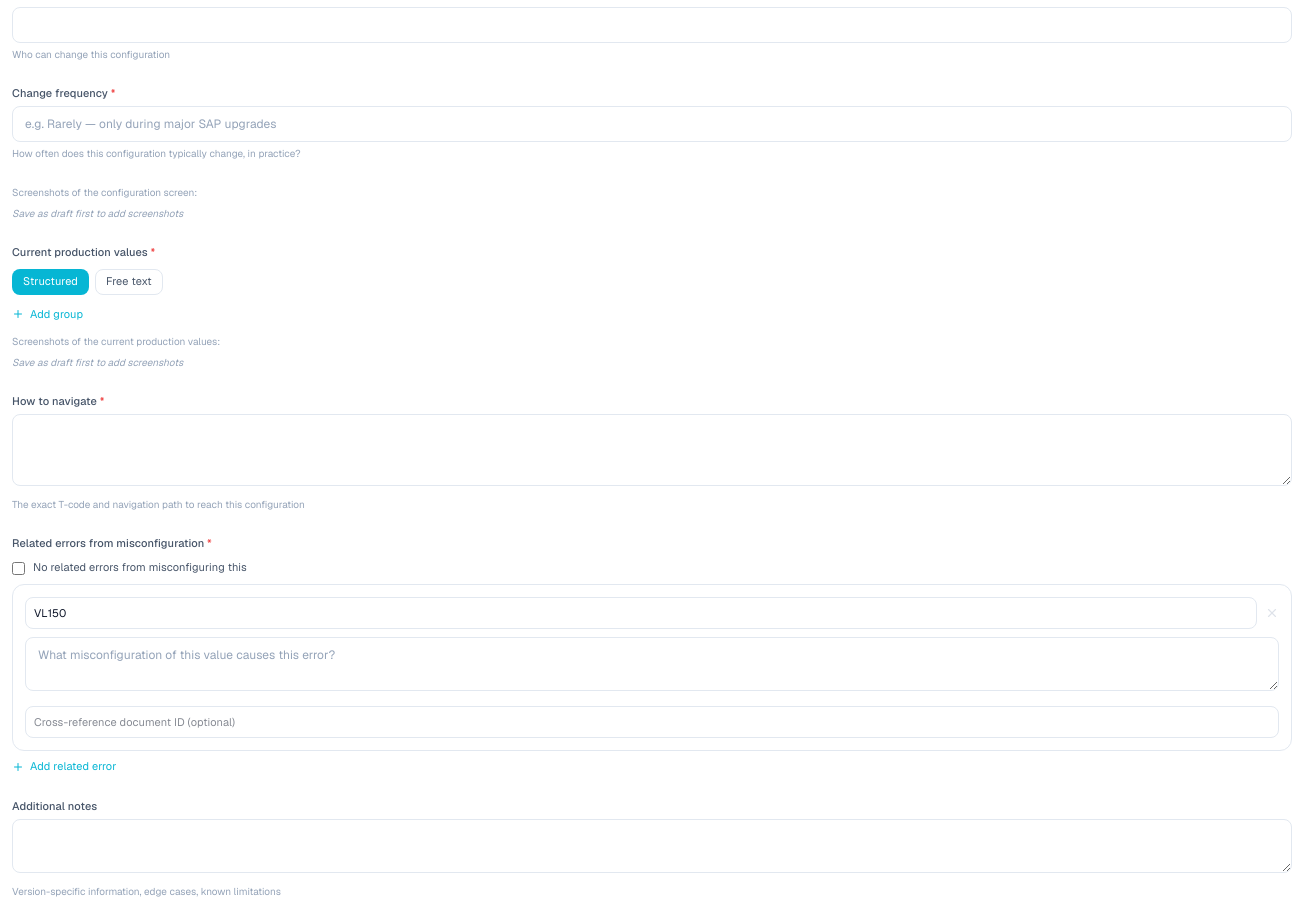
it: ConfigFormFields › checks a cross-referenced document ID via validateReference
(page scrolled)
Type "SD-CFG-001" into the field with placeholder "Cross-reference document ID (optional)". click: (652, 722)
box: [25,706,1279,738]
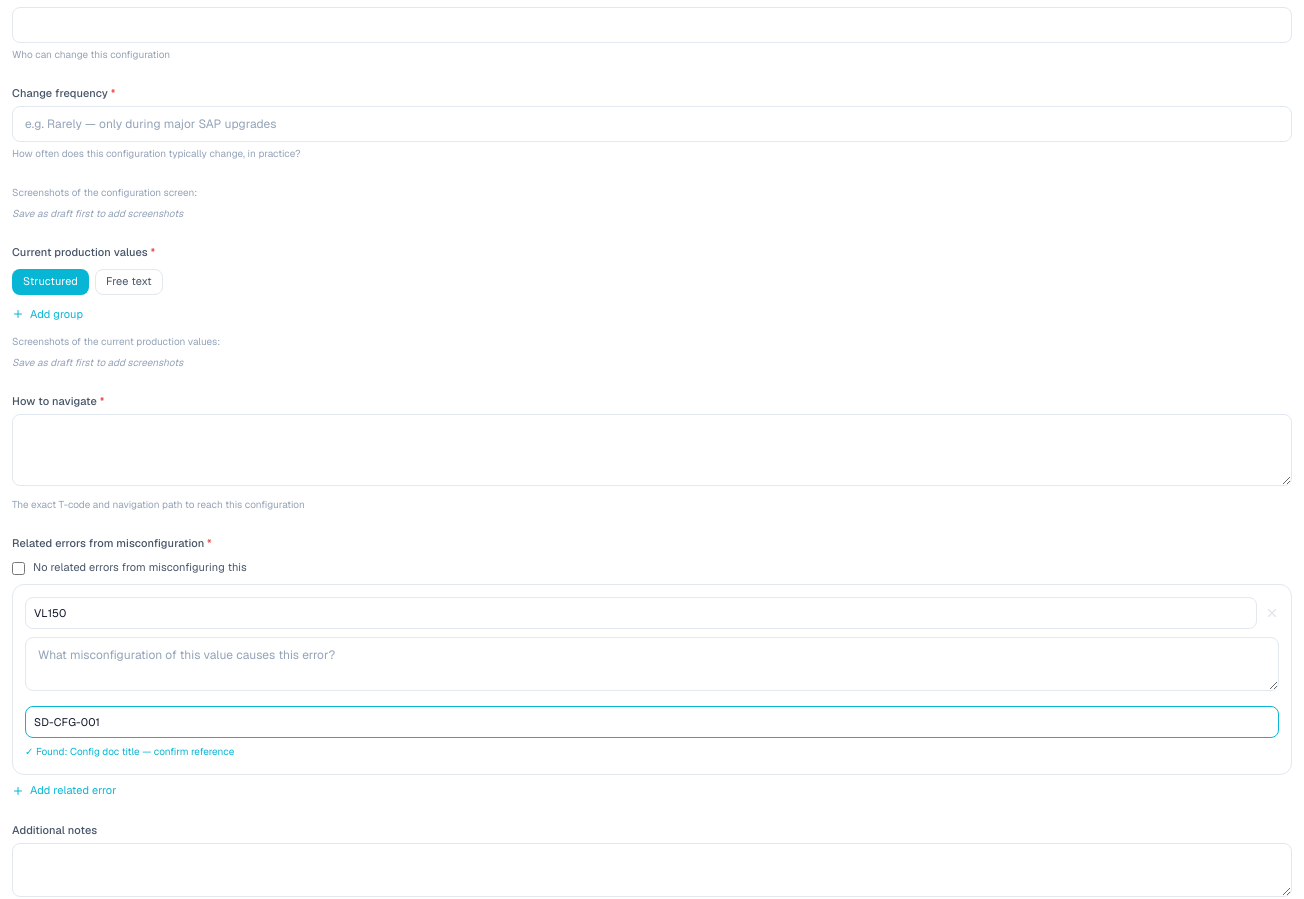
Expected: the button "✓ Found: Config doc title — confirm reference" is shown, [25,744,234,759]
